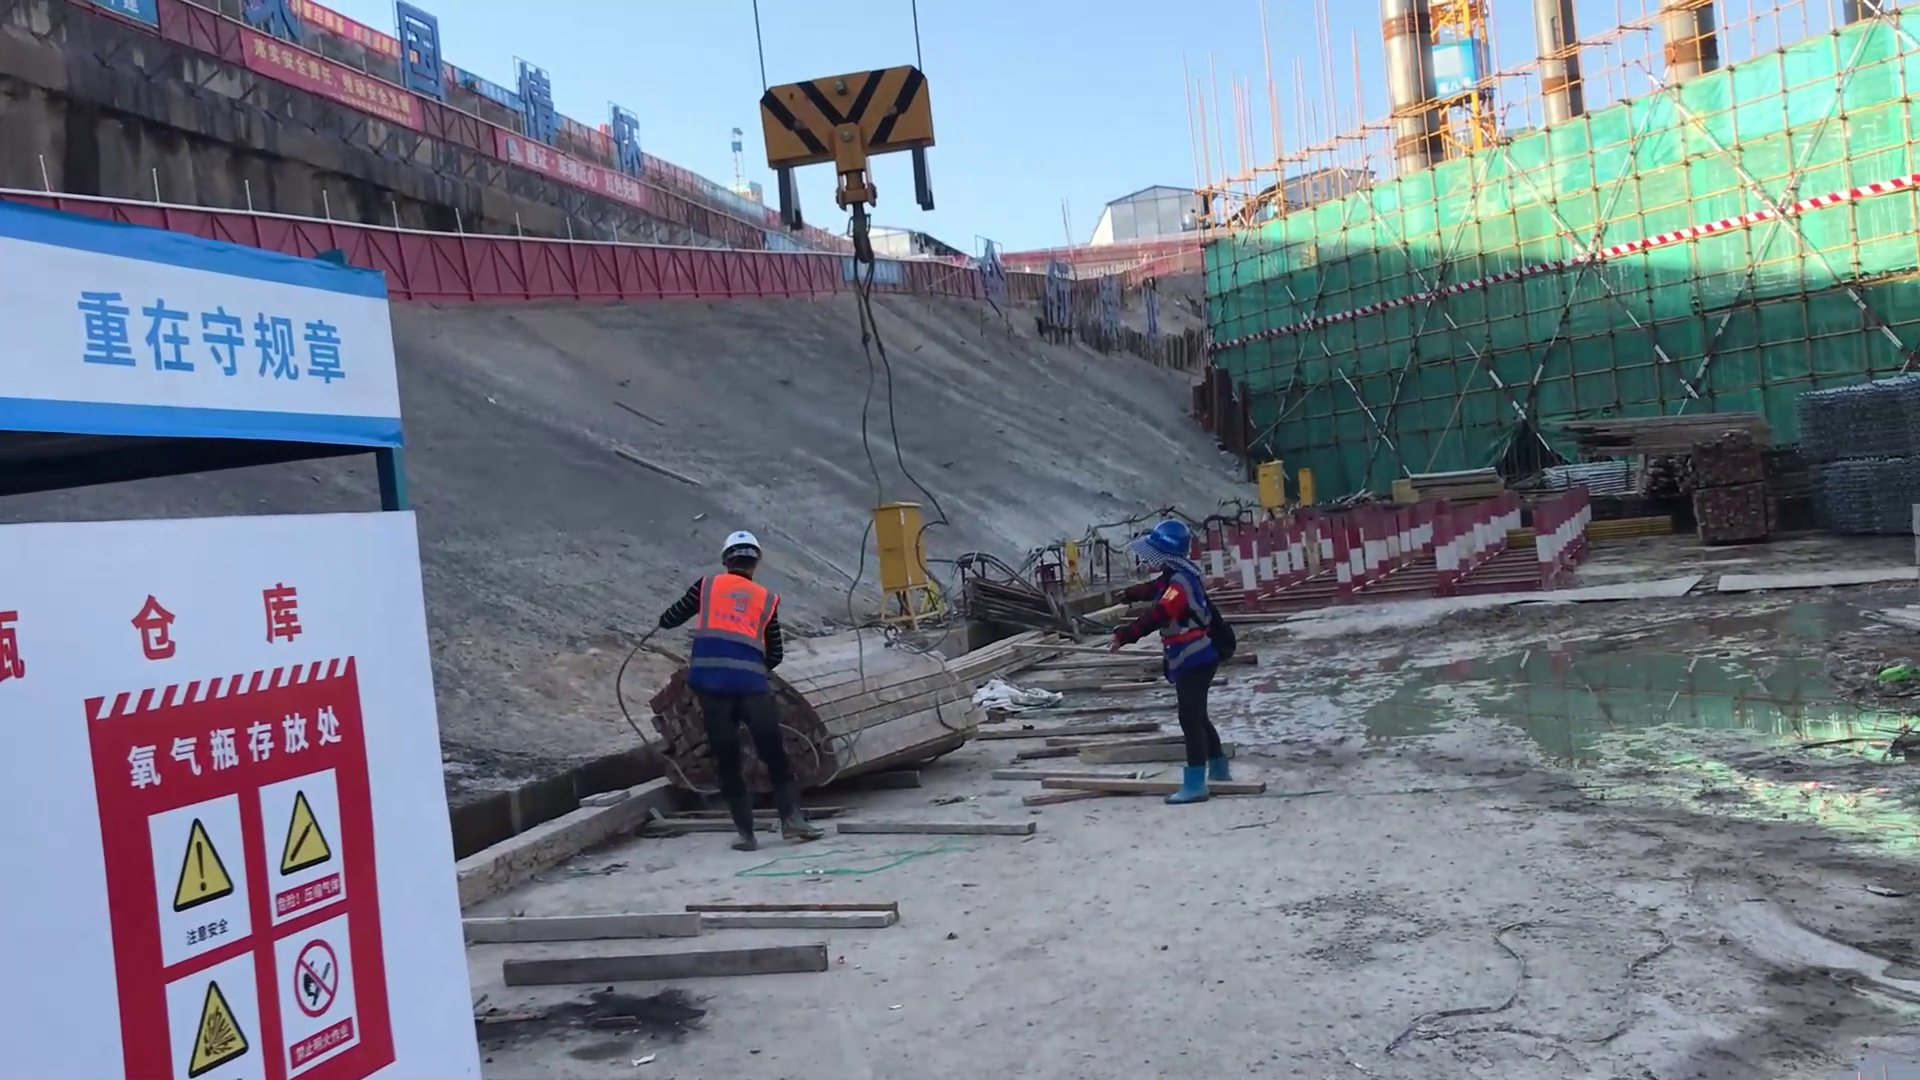ebox: (856, 483, 958, 623), (1252, 455, 1286, 510), (1292, 470, 1316, 507)
fence: (380, 222, 685, 312), (682, 244, 867, 304)
helmet: (709, 520, 772, 580), (1140, 515, 1202, 570)
hook: (751, 50, 929, 219)
person: (670, 509, 833, 844), (1116, 504, 1256, 823)
scaffold: (1796, 368, 1920, 482)
slogan: (63, 668, 395, 1080), (76, 250, 358, 416), (245, 27, 432, 139)
vest: (681, 574, 767, 650)
wood: (819, 619, 985, 800), (1541, 405, 1774, 478)
